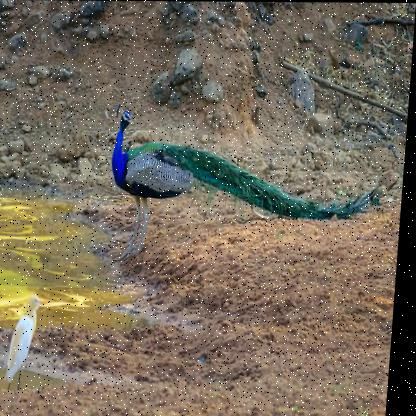Burung: (108, 102, 386, 260)
